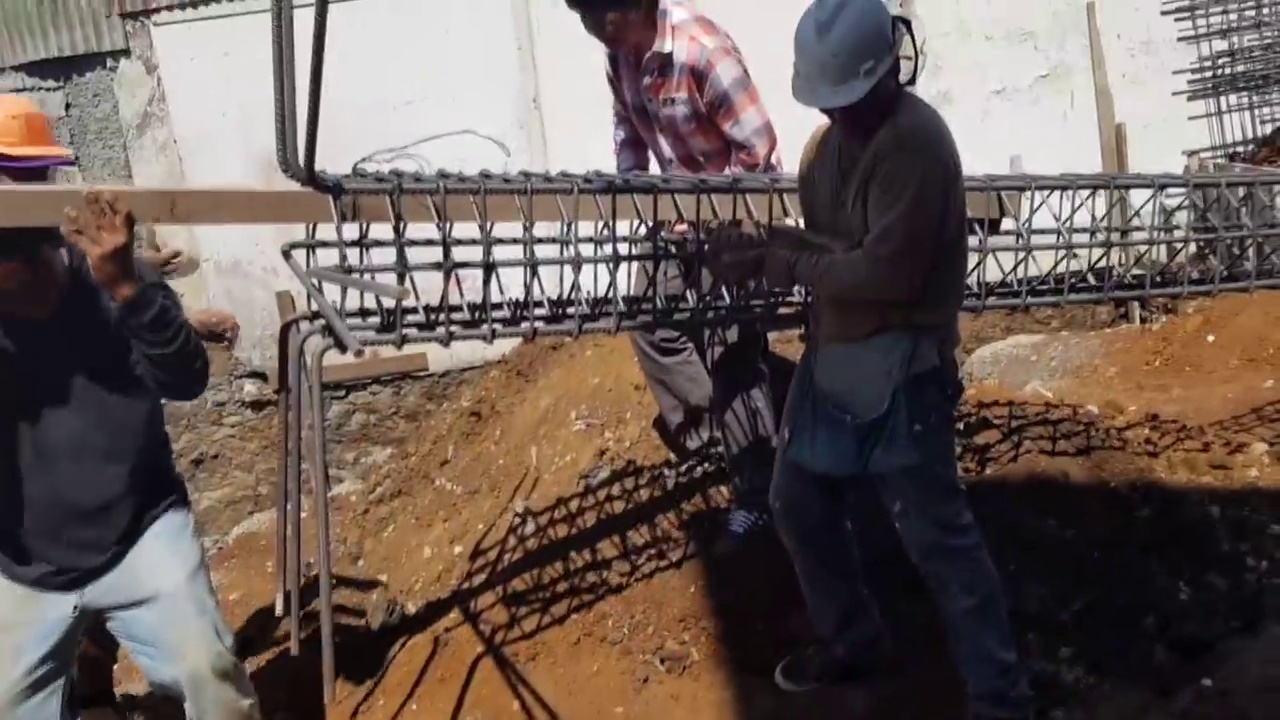helmet: (787, 9, 904, 112), (0, 88, 75, 162)
helmet-off: (561, 0, 667, 75)
helmet-on: (783, 0, 914, 144), (0, 75, 82, 252)
person: (746, 0, 1033, 720), (0, 69, 255, 719), (566, 0, 769, 471)
